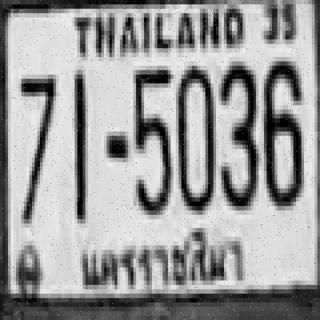N00: (176, 61, 213, 210)
N01: (72, 72, 85, 221)
N03: (219, 61, 256, 206)
N05: (132, 66, 169, 215)
N06: (261, 57, 301, 206)
N07: (18, 72, 54, 221)
P30: (78, 228, 246, 291)
